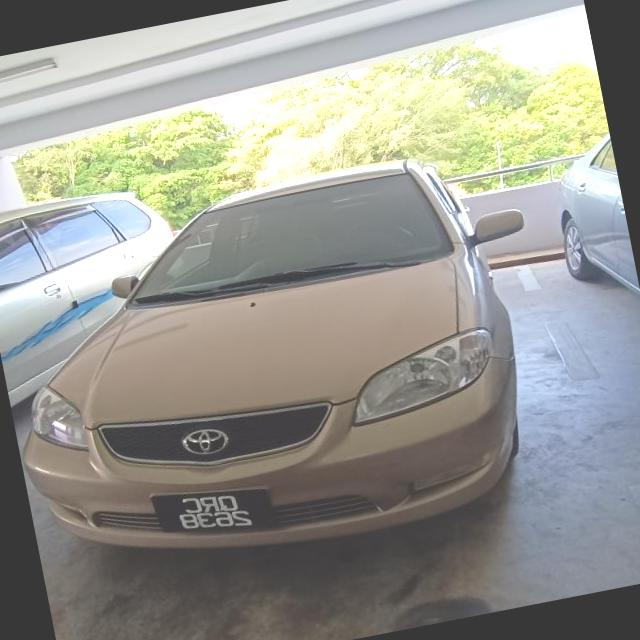ToyotaVios: (0, 134, 578, 594)
